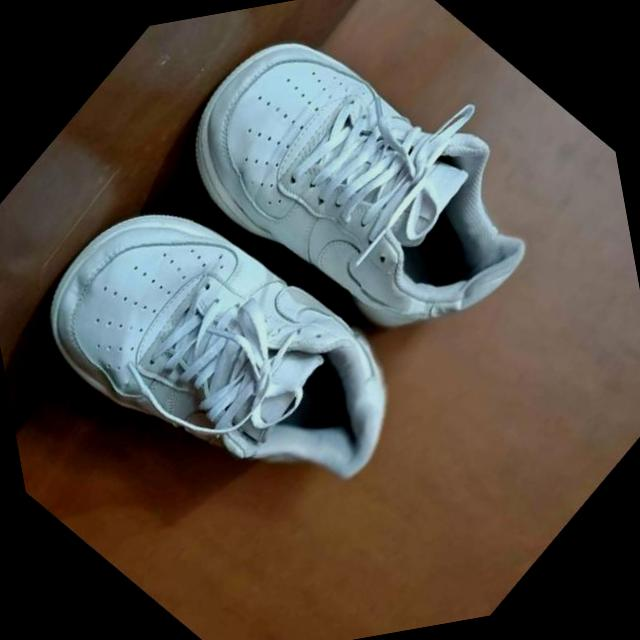nike_fake_airforce: (0, 117, 456, 598), (135, 0, 592, 414)
